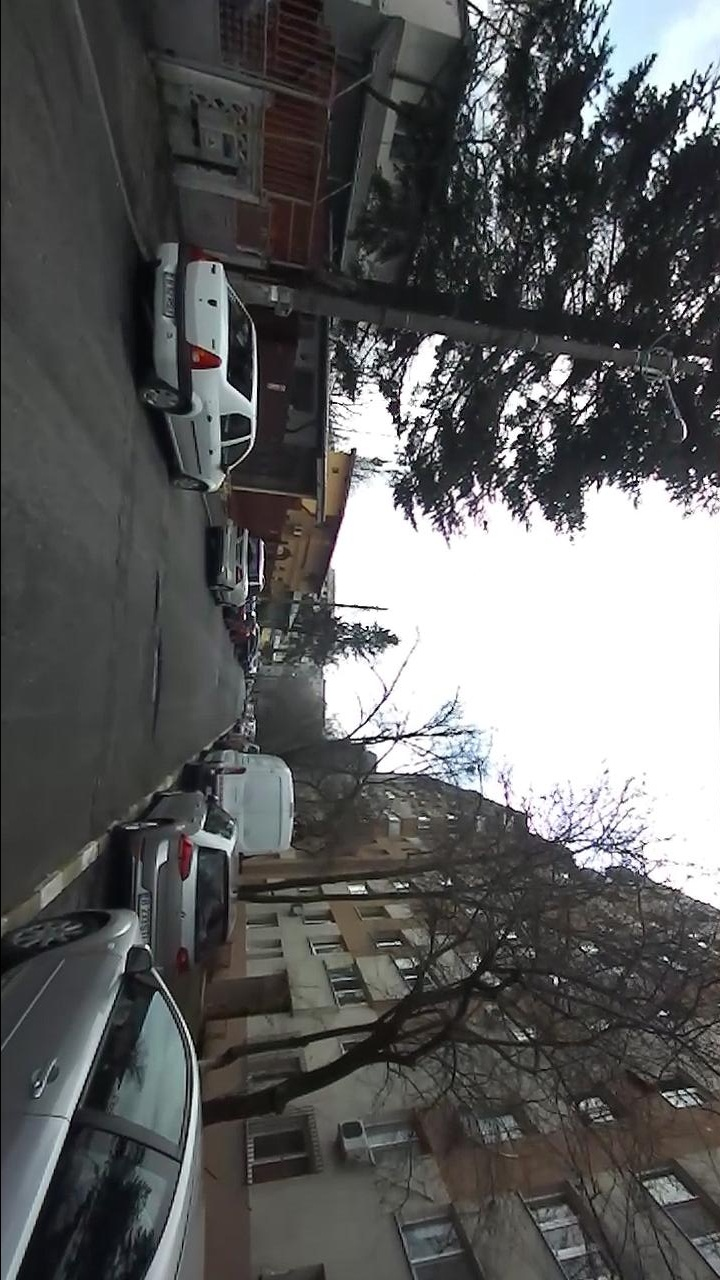pothole: (145, 637, 165, 741), (150, 571, 162, 623)
